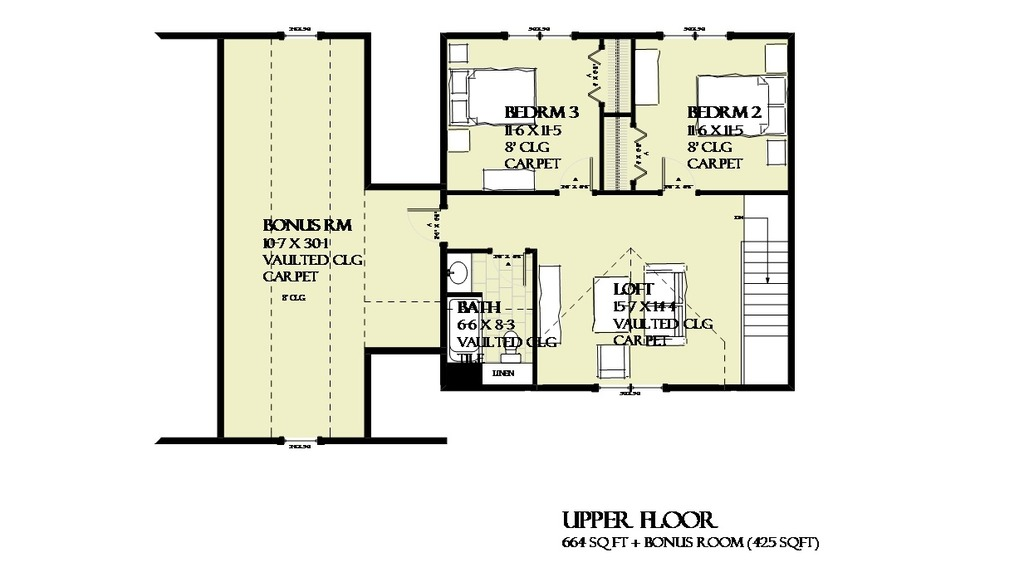bed: (447, 65, 538, 126)
small_sink: (446, 255, 474, 294)
small_sofa: (590, 345, 633, 386)
stairs: (735, 210, 793, 388)
windows: (498, 29, 575, 39)
